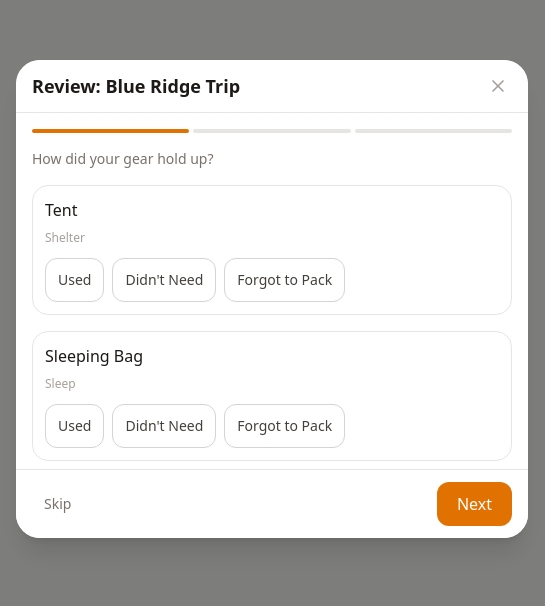
Test: REV-02: Meals step › shows meals step after clicking Next on gear step
Click the button "Next" at (474, 504), box [437,482,512,526]
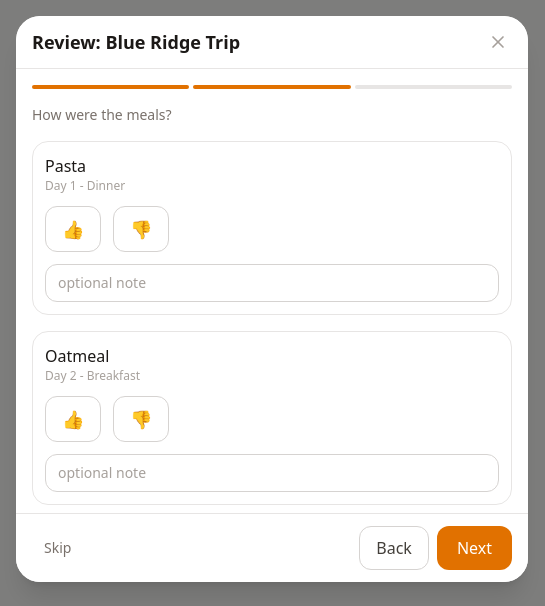
Check: the text "Pasta" is shown, box [45,155,86,177]
Check: the text "Oatmeal" is shown, box [45,345,109,367]
